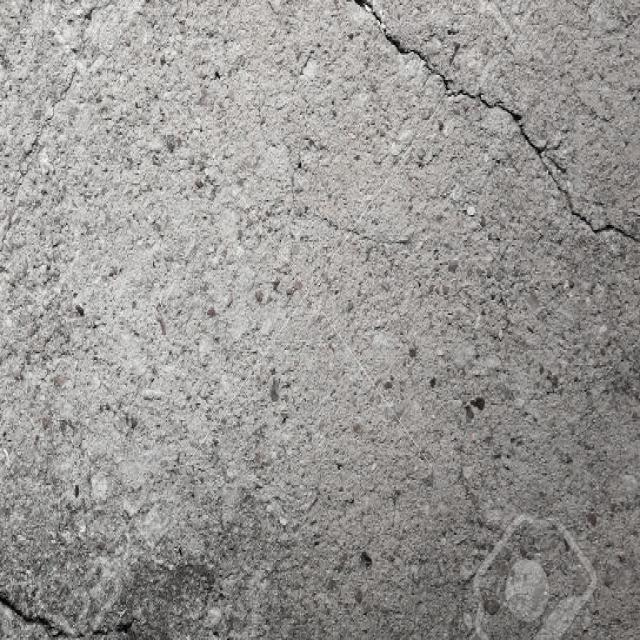crack: (349, 1, 638, 248), (2, 5, 111, 266), (1, 592, 134, 637)
